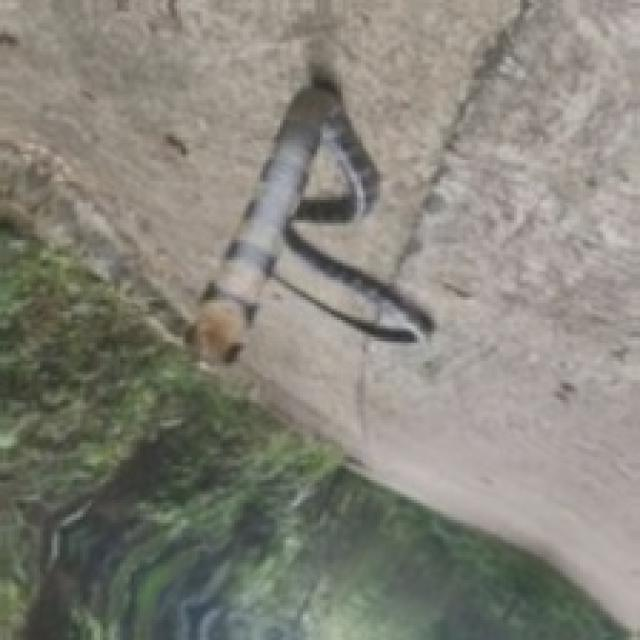king cobra: (186, 74, 431, 360)
